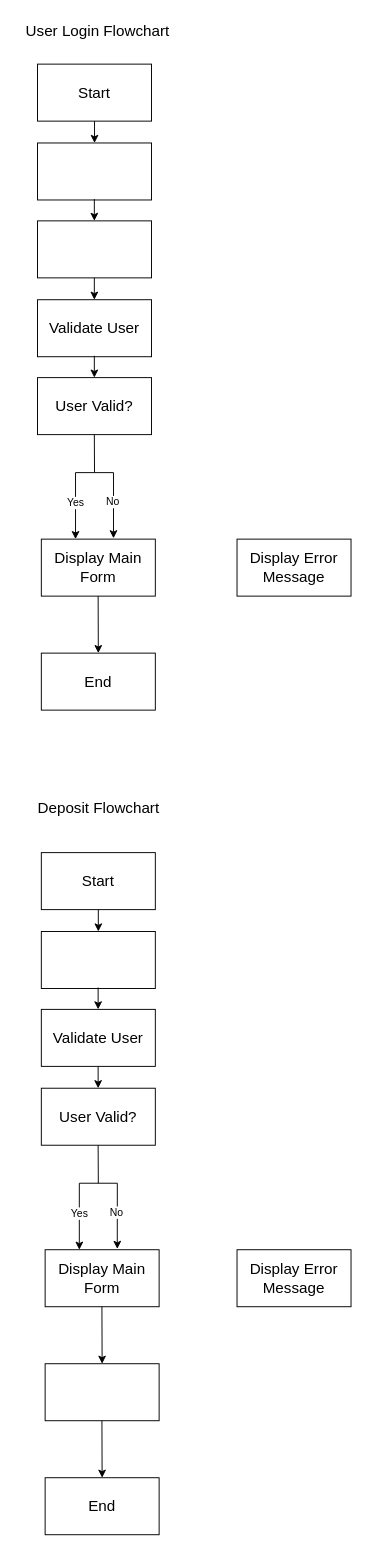
Image size: 368x1551. Some labels were removed from this diagram. Each missing label, with the box of its shape:
Display Login Form: (37, 142, 152, 200)
Dsiplay Success Message: (44, 1363, 159, 1421)
Input Amount: (40, 931, 155, 988)
Input Name and PIN: (37, 220, 152, 278)
